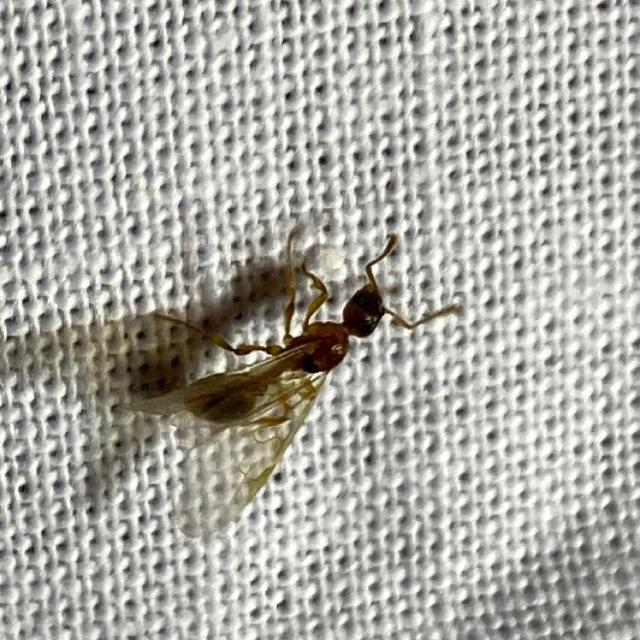Myrmica: (113, 229, 431, 493)
